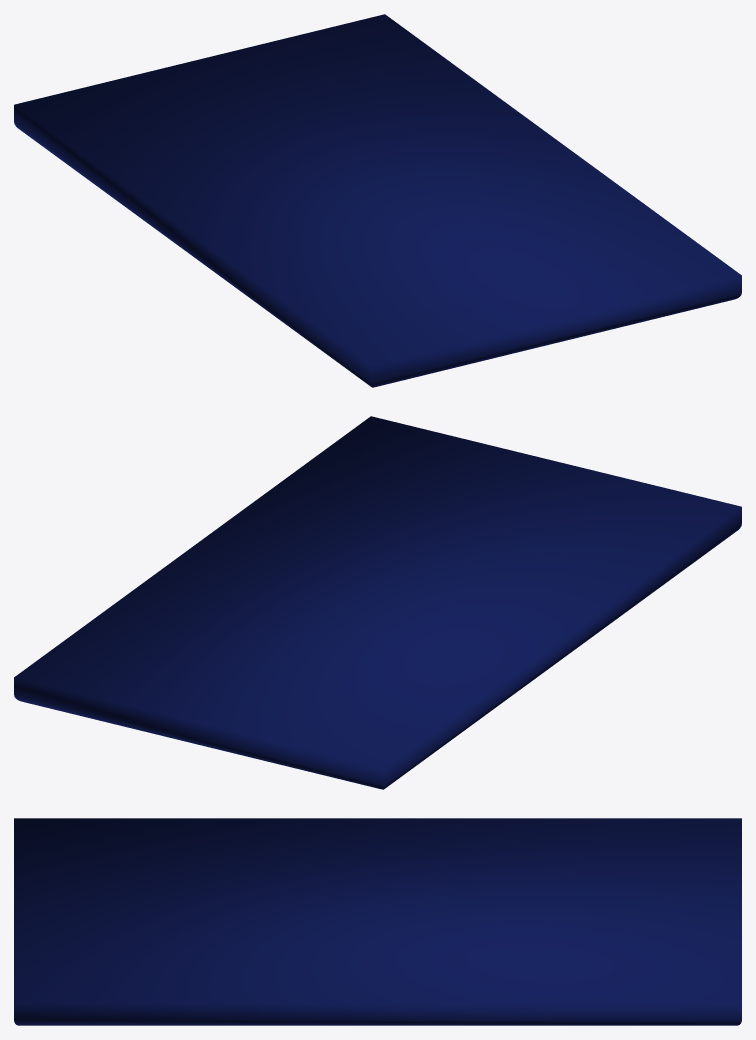
Rendered from plate.dae.
3 renders of one model, top to bottom at view 1: azimuth 30°, elevation 25°; view 2: azimuth 150°, elevation 25°; view 3: azimuth 270°, elevation 25°, orthographic.
Visible parts, largest first — view 1: plate; view 2: plate; view 3: plate.
Boxes of the visible parts, x1,y1,x2,y2 form: plate: (14,14,741,387); plate: (14,416,741,789); plate: (14,818,741,1025).
Size of the model in its own units: 0.3 by 0.02 by 0.5.
